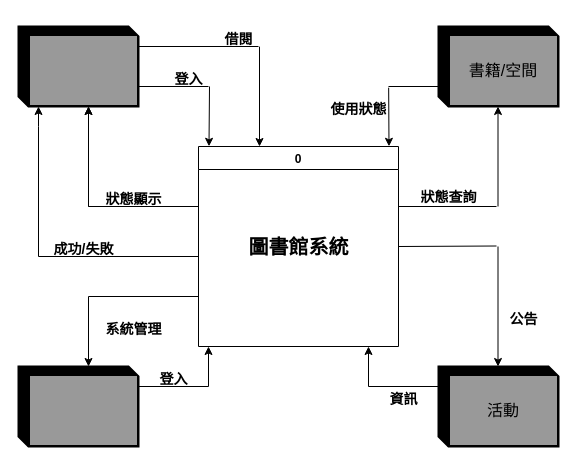
Image size: 576x465. Some labels were removed from this diagram. The centre of each missing label's shape, as x and y in pixels:
學生: point (83, 70)
管理員: point (83, 410)
